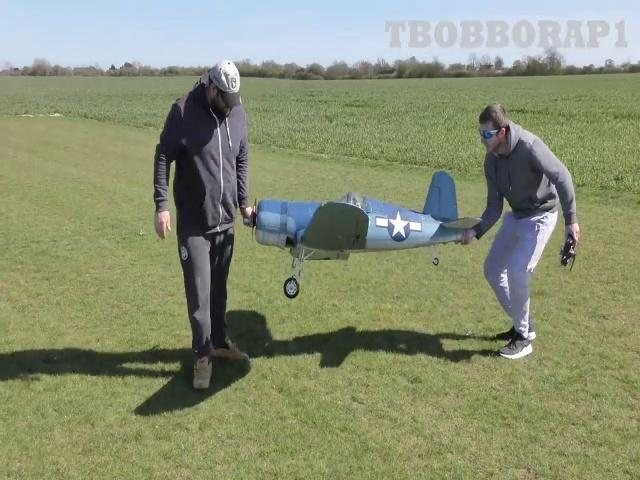Airplane: (252, 171, 483, 298)
